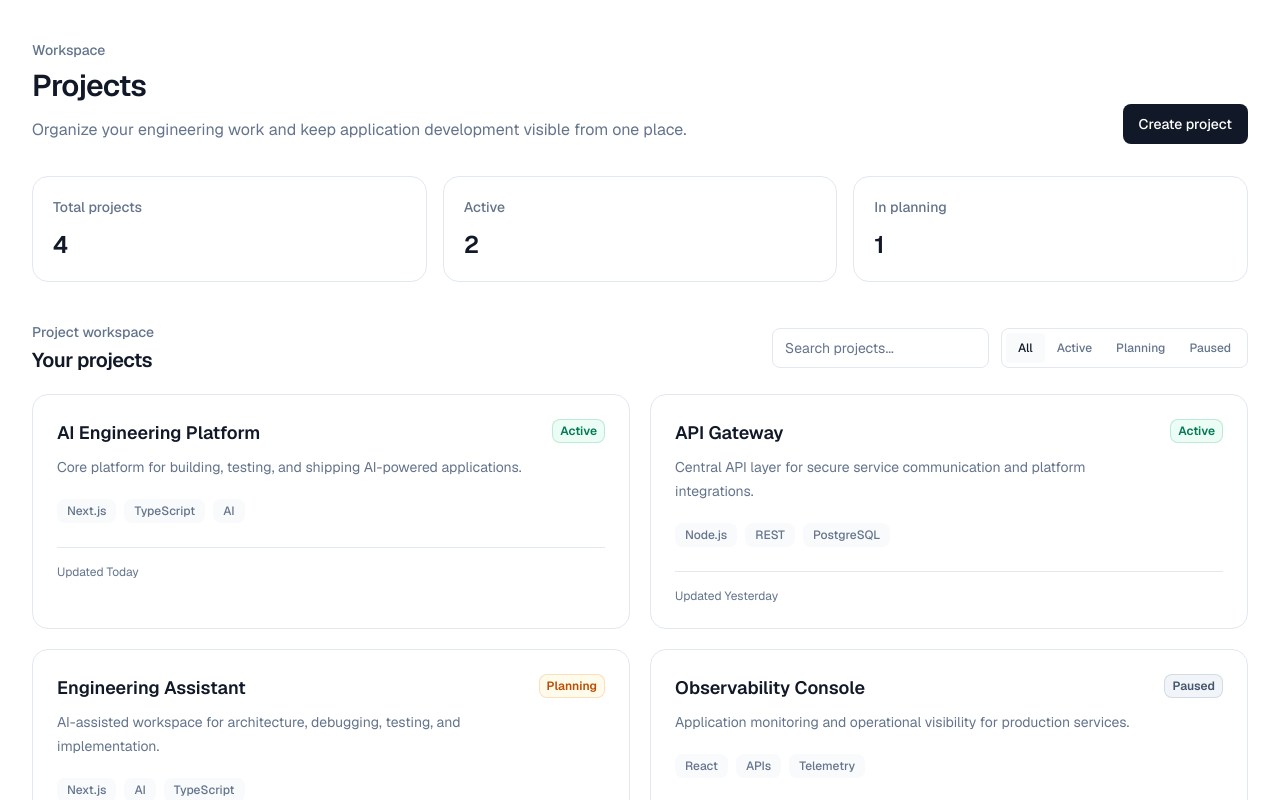
it: ProjectsPage › clears project filters
Step 1. Type "does-not-exist" into the field labelled "Search projects" → (880, 348), box [772,328,989,368]
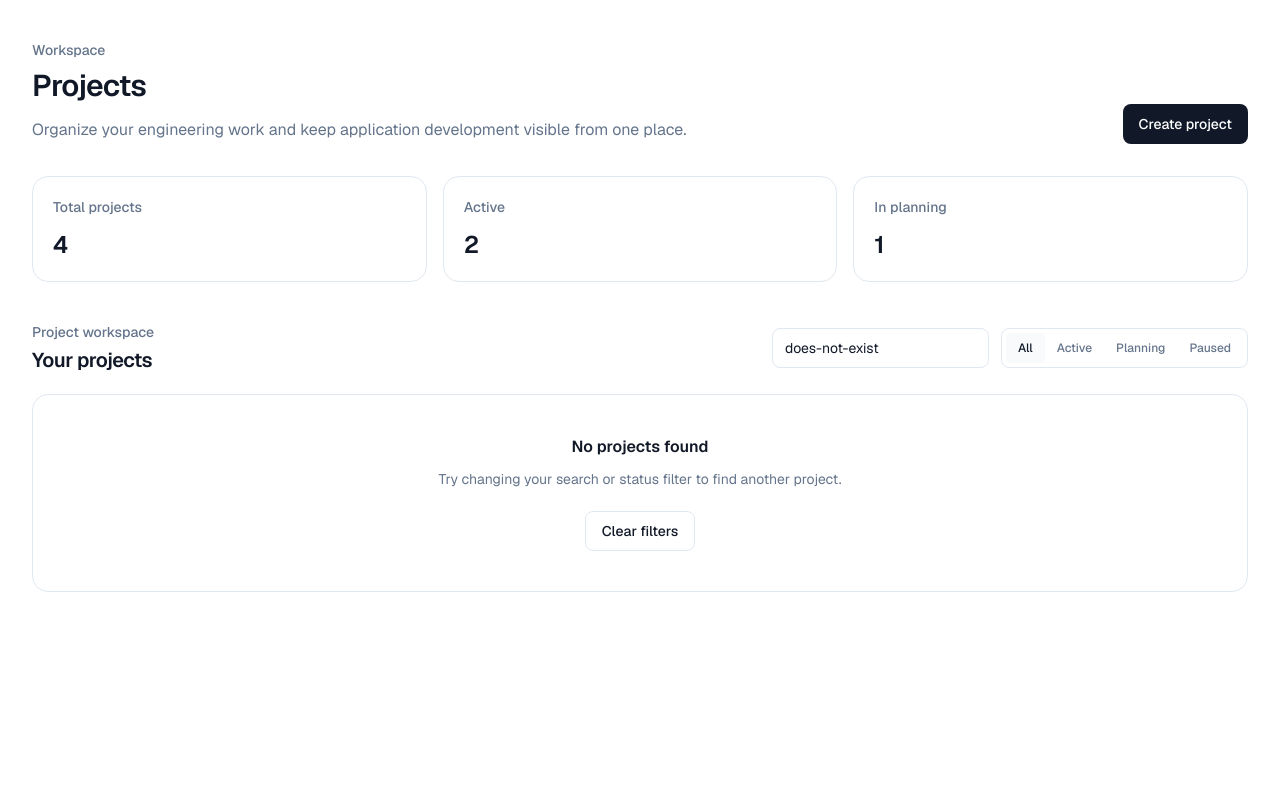
Step 2. Click the button "Clear filters" → (640, 531), box [585,511,695,551]
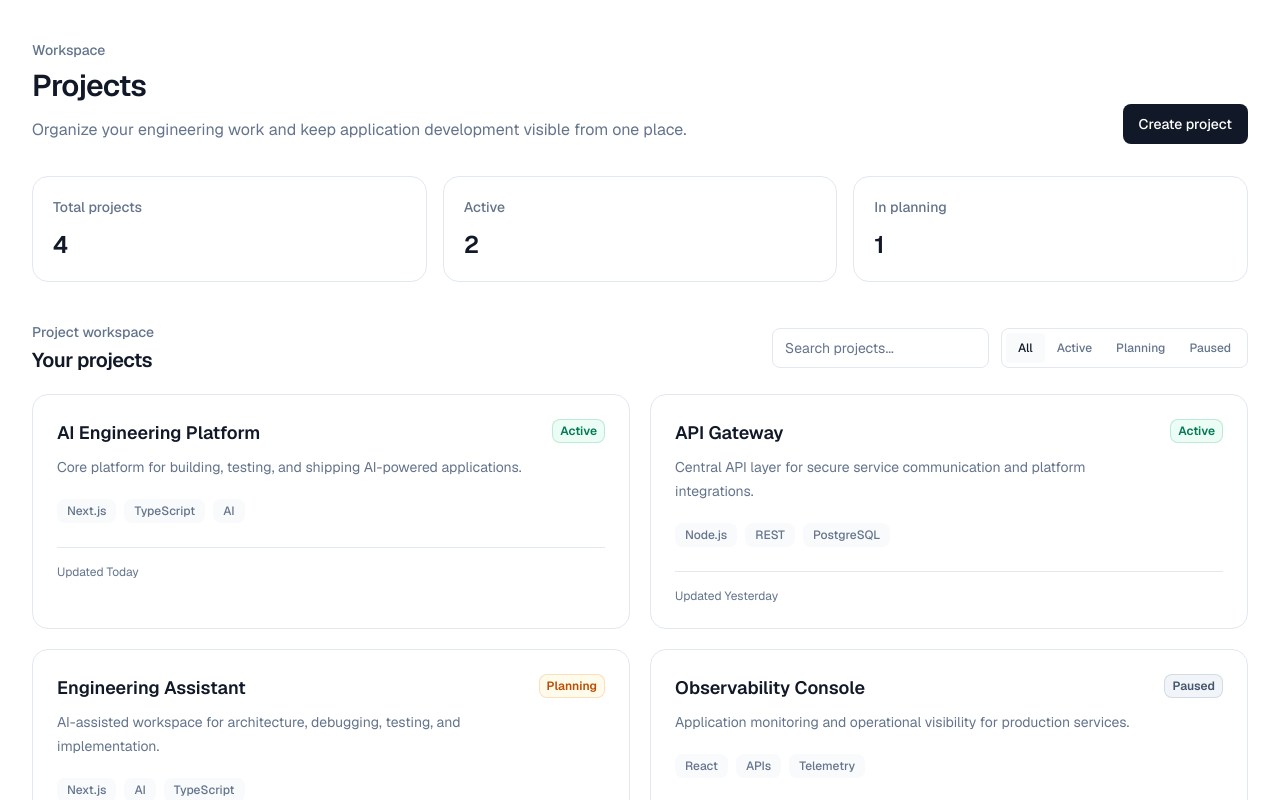
Check: the heading "AI Engineering Platform" is shown, box [57,421,260,444]
